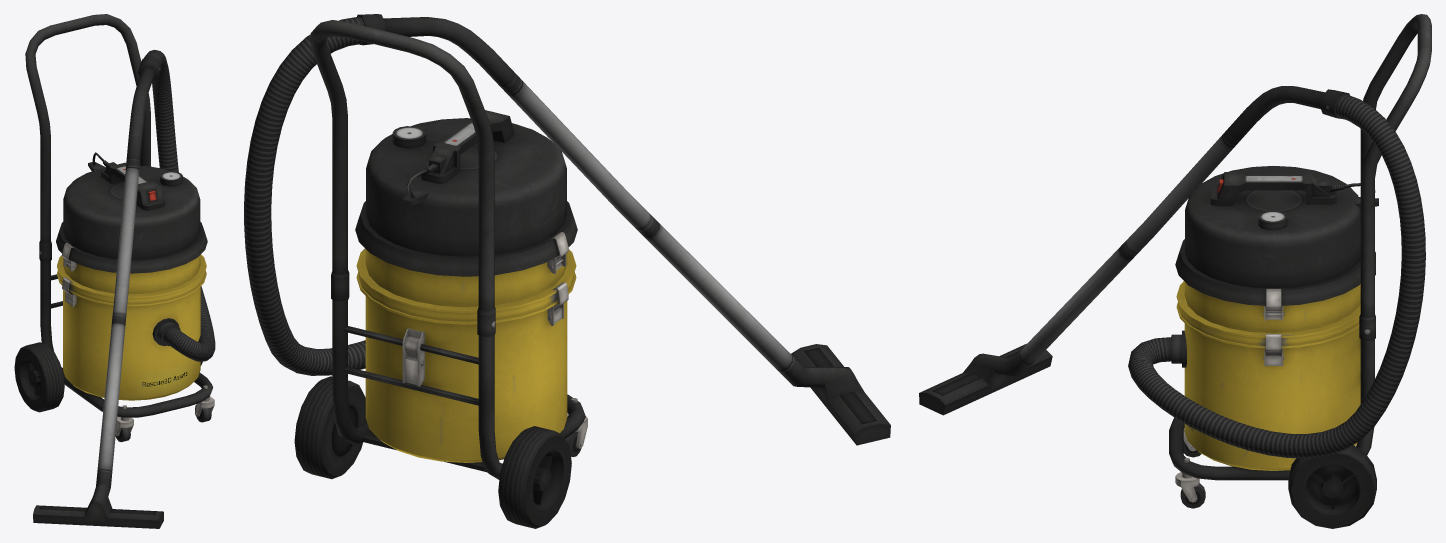
The model's file is uploads_files_2396552_VacuumCleaner01.gltf.
The picture shows the model from 3 angles, left to right: view 1: azimuth 30°, elevation 25°; view 2: azimuth 150°, elevation 25°; view 3: azimuth 270°, elevation 25°; orthographic projection. The views are drawn at different scales.
Parts seen in each view (by area): view 1: VacuumCleaner01; view 2: VacuumCleaner01; view 3: VacuumCleaner01.
Boxes of the visible parts, x1=… form: VacuumCleaner01: x1=14, y1=14, x2=215, y2=528; VacuumCleaner01: x1=244, y1=14, x2=890, y2=528; VacuumCleaner01: x1=919, y1=14, x2=1431, y2=528.
Bounding box in the file's own units: 1.08 × 1.21 × 1.26.
Materials: 1 (1 with a texture image).
